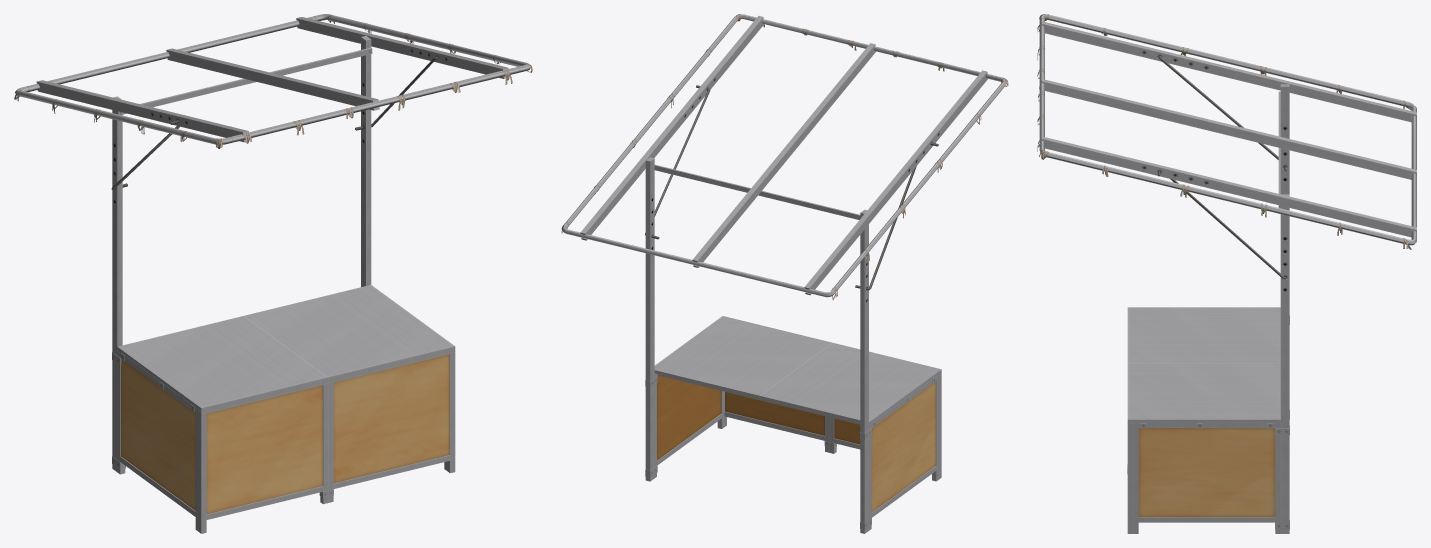
File: jsf_2P_s01_c05_t01.fbx
The picture shows the model from 3 angles, left to right: view 1: azimuth 30°, elevation 25°; view 2: azimuth 150°, elevation 25°; view 3: azimuth 270°, elevation 25°; orthographic projection. The views are drawn at different scales.
Parts seen in each view (by area): view 1: Base_s01_c05, Pillar2_s01, Table_2P_s01_t01, Rope_2P_s01; view 2: Pillar2_s01, Table_2P_s01_t01, Base_s01_c05, Rope_2P_s01; view 3: Pillar2_s01, Table_2P_s01_t01, Base_s01_c05, Rope_2P_s01.
Part boxes in pixels (<box>): Base_s01_c05: <box>112,346,455,533</box>; Pillar2_s01: <box>15,14,530,471</box>; Table_2P_s01_t01: <box>117,285,453,412</box>; Rope_2P_s01: <box>14,14,532,148</box>; Pillar2_s01: <box>561,14,1006,533</box>; Table_2P_s01_t01: <box>654,316,940,427</box>; Base_s01_c05: <box>645,316,941,530</box>; Rope_2P_s01: <box>561,14,1008,299</box>; Pillar2_s01: <box>1039,14,1416,533</box>; Table_2P_s01_t01: <box>1129,307,1280,428</box>; Base_s01_c05: <box>1127,307,1289,533</box>; Rope_2P_s01: <box>1037,14,1411,249</box>.
Bounding box in the file's own units: 186 × 244 × 211.
